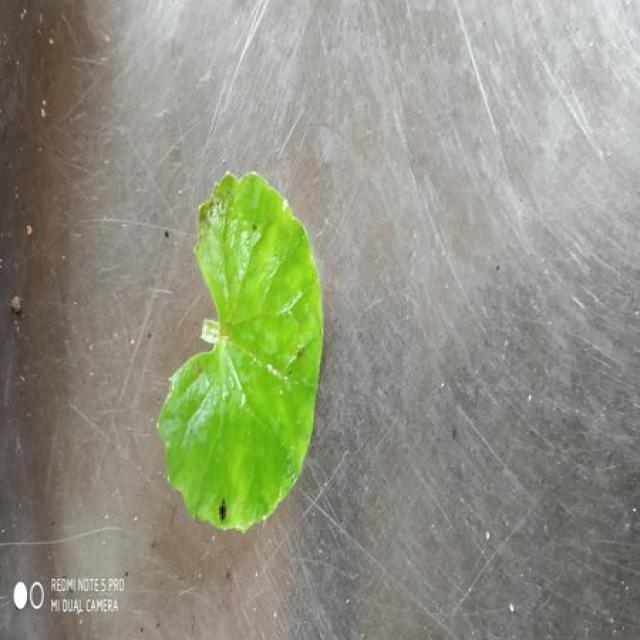bhrami: (157, 172, 323, 531)
